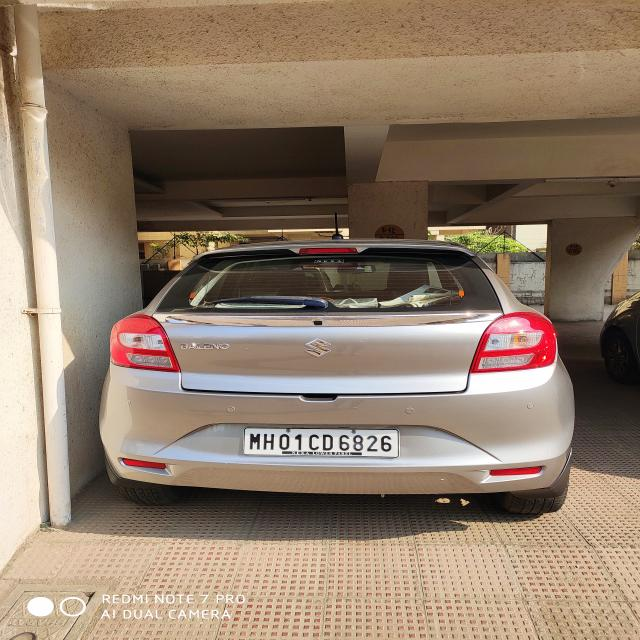Number-Plate: (244, 427, 399, 456)
